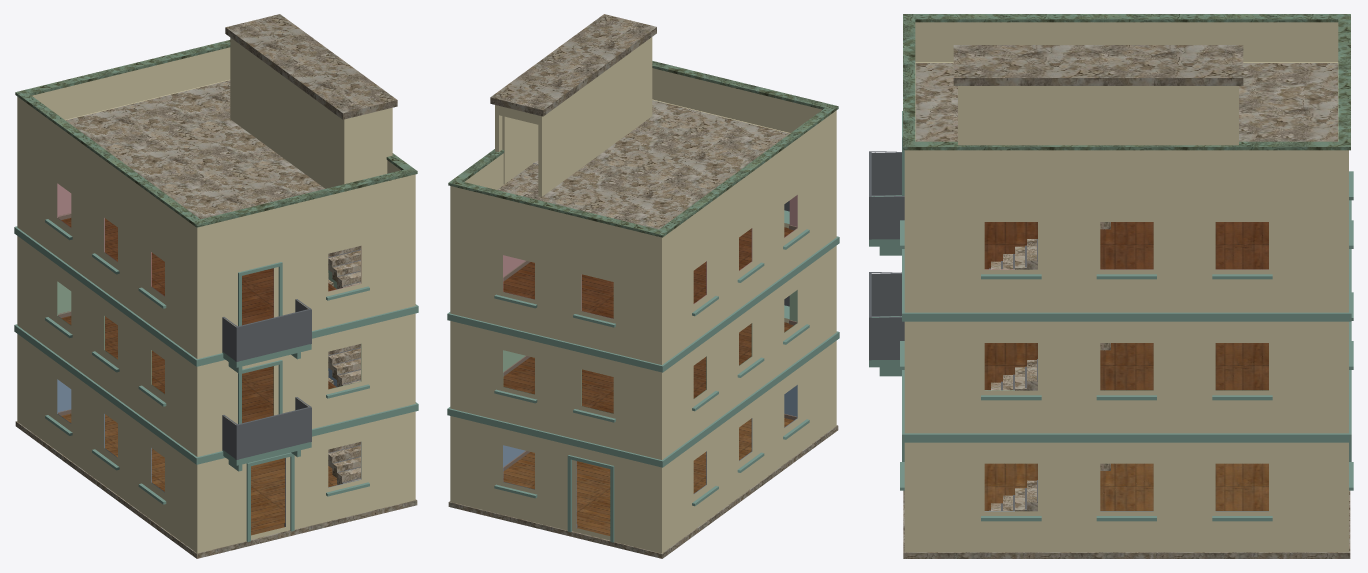
Rendered from bay-townhouse-yellow.reveal-v1.lod0.glb.
3 views of the same model, side by side, from view 1: azimuth 30°, elevation 25°; view 2: azimuth 150°, elevation 25°; view 3: azimuth 270°, elevation 25° (orthographic). The views are drawn at different scales.
Visible parts, largest first — view 1: bay-townhouse-yellow; view 2: bay-townhouse-yellow; view 3: bay-townhouse-yellow.
Part boxes in pixels (x1=…): bay-townhouse-yellow: x1=14, y1=14, x2=418, y2=558; bay-townhouse-yellow: x1=447, y1=14, x2=839, y2=558; bay-townhouse-yellow: x1=869, y1=14, x2=1353, y2=558.
Bounding box in the file's own units: 7.2 × 11.96 × 10.91.
Materials: 3 (2 with a texture image).
